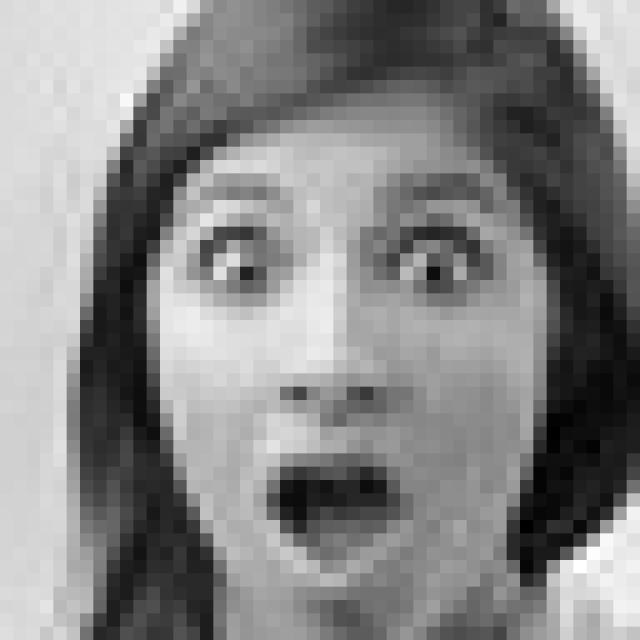surprise: (180, 169, 519, 574)
